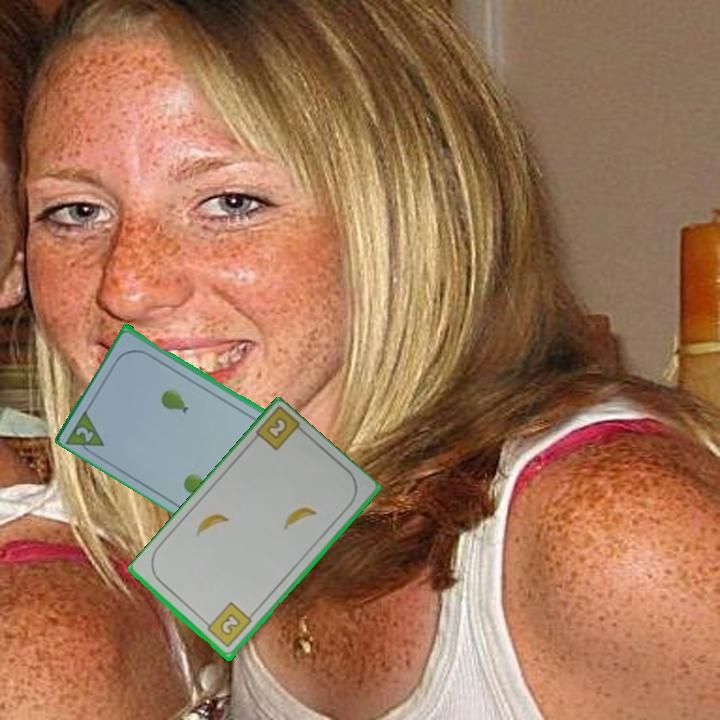2b: (200, 599, 255, 651), (263, 414, 291, 443)
2p: (72, 423, 97, 445)
